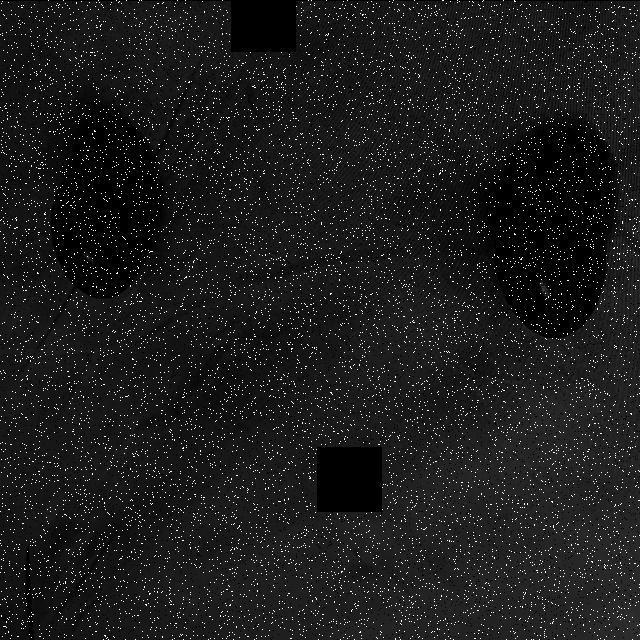egg: (488, 171, 606, 343), (46, 158, 148, 302)
